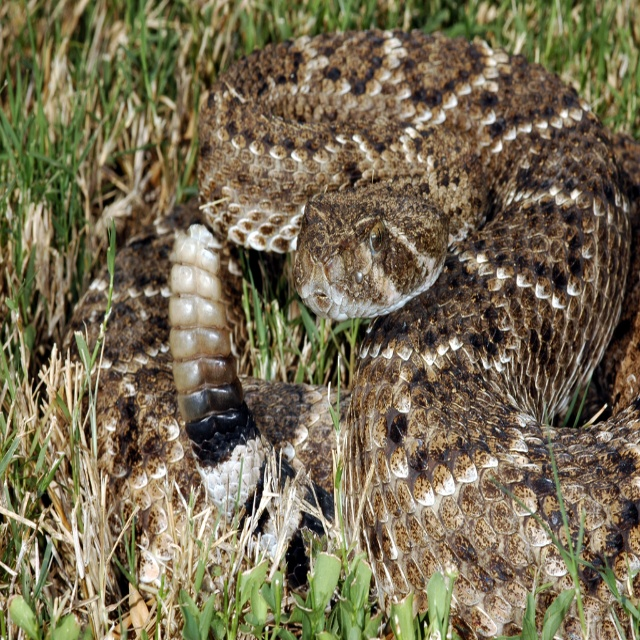Snake: (62, 27, 640, 640)
